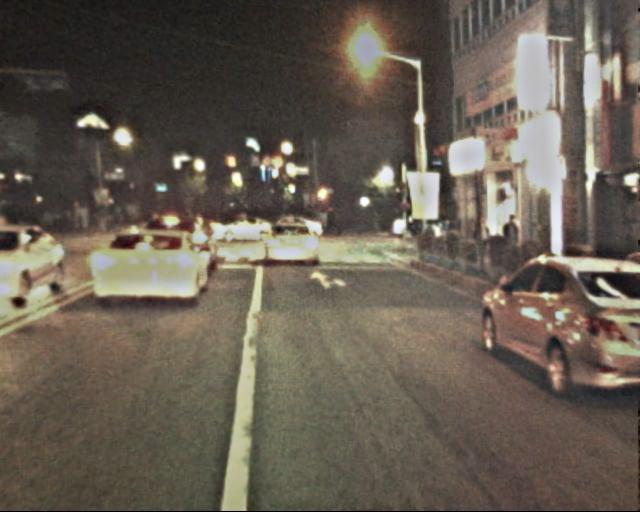person: (59, 204, 127, 231), (502, 217, 526, 276), (471, 215, 491, 264)
